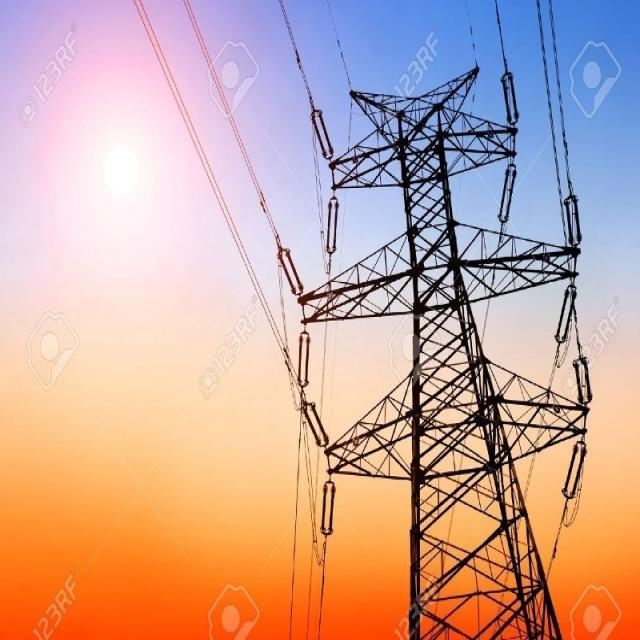non-critical vegetation: (284, 48, 596, 632)
